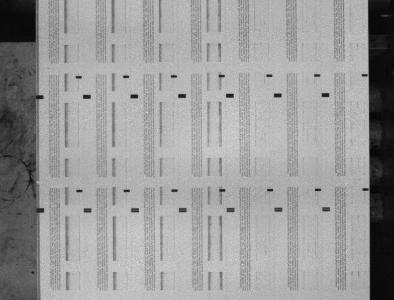backgroundclutter: (31, 271, 35, 274)
incorrect qblock: (275, 207, 283, 212), (322, 207, 331, 211), (227, 208, 235, 212), (84, 208, 92, 212), (131, 208, 139, 212), (179, 208, 187, 212)
qblock: (83, 94, 91, 99), (226, 93, 234, 98), (130, 94, 139, 98), (37, 208, 44, 213), (36, 95, 44, 99), (178, 94, 186, 98), (274, 93, 282, 97), (322, 93, 330, 97)
smallqblock: (219, 74, 225, 78), (315, 188, 322, 191), (267, 188, 274, 191), (171, 189, 178, 192), (266, 74, 273, 77), (76, 189, 83, 192), (171, 75, 178, 78), (123, 75, 130, 78), (124, 189, 130, 192), (220, 189, 226, 192), (315, 74, 321, 77), (76, 76, 82, 79), (363, 188, 369, 191), (362, 74, 368, 77)
